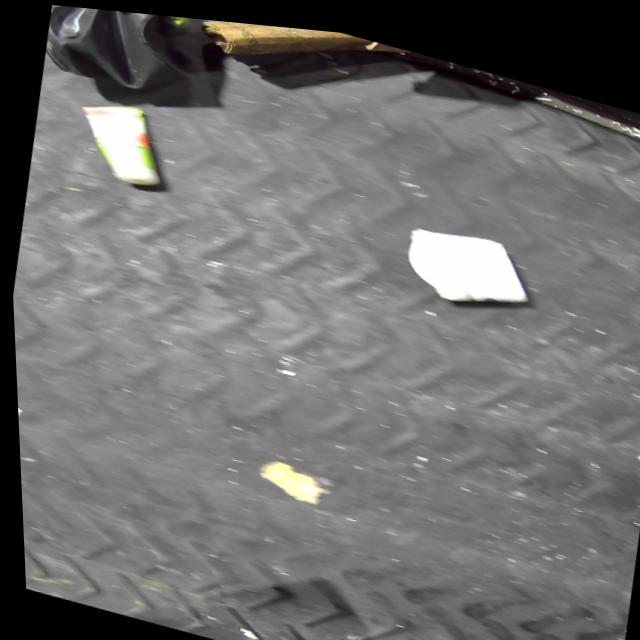non_white_jug: (40, 3, 204, 104)
